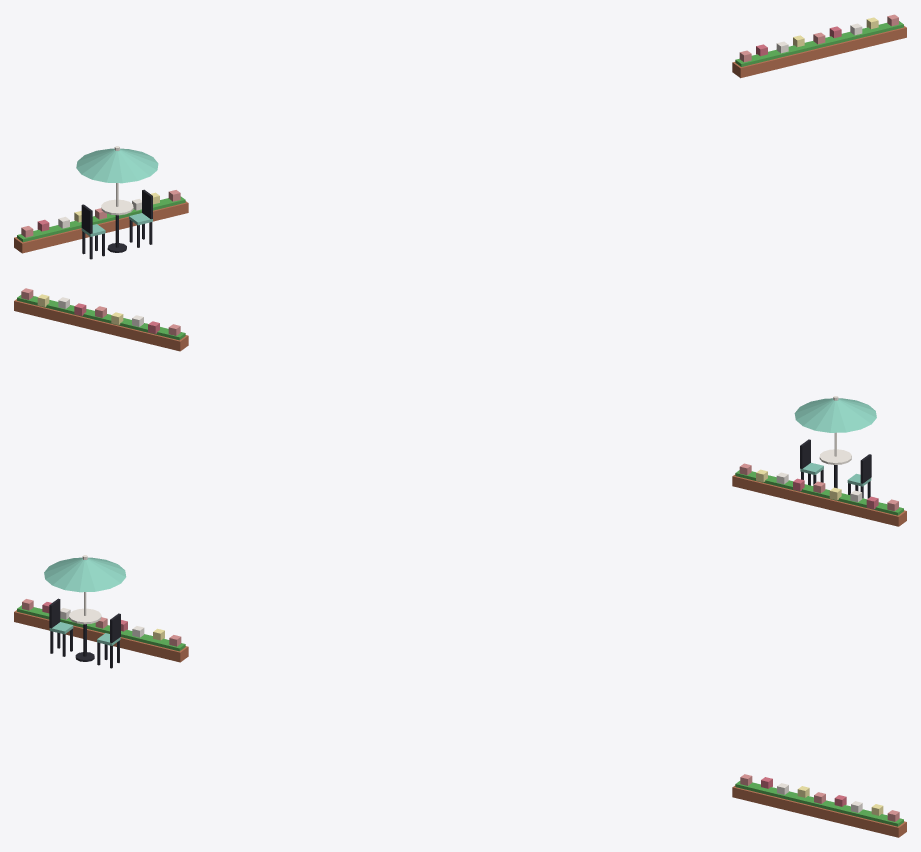
The model's file is CatCafe_Plot_Tier2_52x40.glb.
3 renders of one model, top to bottom at view 1: azimuth 30°, elevation 25°; view 2: azimuth 150°, elevation 25°; view 3: azimuth 330°, elevation 25°, orthographic.
Visible parts, largest first — view 1: CatCafe_Plot_Tier2_52x40, CatCafe_Plot_Tier2_52x40_Bistro, CatCafe_Plot_Tier2_52x40_Flowers; view 2: CatCafe_Plot_Tier2_52x40, CatCafe_Plot_Tier2_52x40_Bistro, CatCafe_Plot_Tier2_52x40_Flowers; view 3: CatCafe_Plot_Tier2_52x40, CatCafe_Plot_Tier2_52x40_Bistro, CatCafe_Plot_Tier2_52x40_Flowers.
Part boxes in pixels (x1,y1,x2,y2): CatCafe_Plot_Tier2_52x40: [14, 14, 906, 253]; CatCafe_Plot_Tier2_52x40_Bistro: [76, 146, 158, 259]; CatCafe_Plot_Tier2_52x40_Flowers: [17, 21, 903, 242]; CatCafe_Plot_Tier2_52x40: [14, 288, 906, 526]; CatCafe_Plot_Tier2_52x40_Bistro: [794, 396, 876, 498]; CatCafe_Plot_Tier2_52x40_Flowers: [17, 295, 903, 515]; CatCafe_Plot_Tier2_52x40: [14, 599, 906, 837]; CatCafe_Plot_Tier2_52x40_Bistro: [44, 555, 126, 668]; CatCafe_Plot_Tier2_52x40_Flowers: [17, 605, 903, 826].
Size of the model in its own units: 46.8 by 5.15 by 3.8.
1 material, 1 textured.
